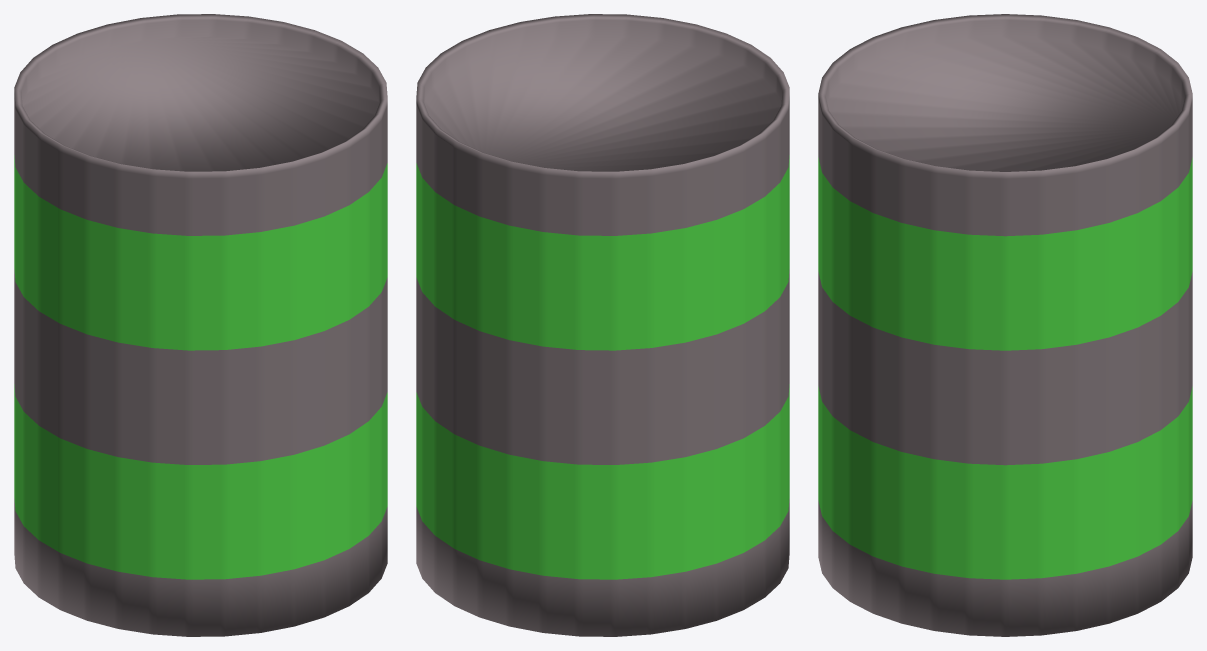
Rendered from barrel.fbx.
The picture shows the model from 3 angles, left to right: view 1: azimuth 30°, elevation 25°; view 2: azimuth 150°, elevation 25°; view 3: azimuth 270°, elevation 25°; orthographic projection.
Visible parts, largest first — view 1: Cylinder; view 2: Cylinder; view 3: Cylinder.
Part boxes in pixels (left/top/right/bottom): Cylinder: left=14, top=14, right=387, bottom=636; Cylinder: left=416, top=14, right=789, bottom=636; Cylinder: left=818, top=14, right=1192, bottom=636.
Size of the model in its own units: 414 by 568 by 414.
